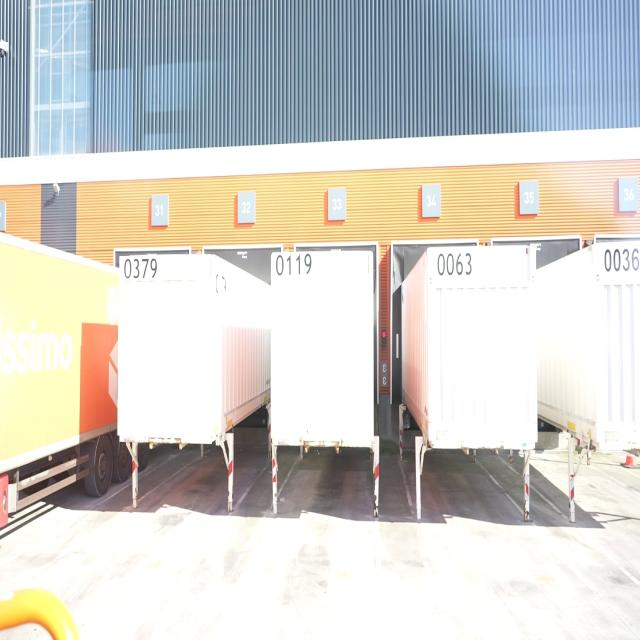Code: (434, 248, 475, 282), (600, 244, 640, 275), (274, 252, 314, 280), (123, 253, 159, 283)
